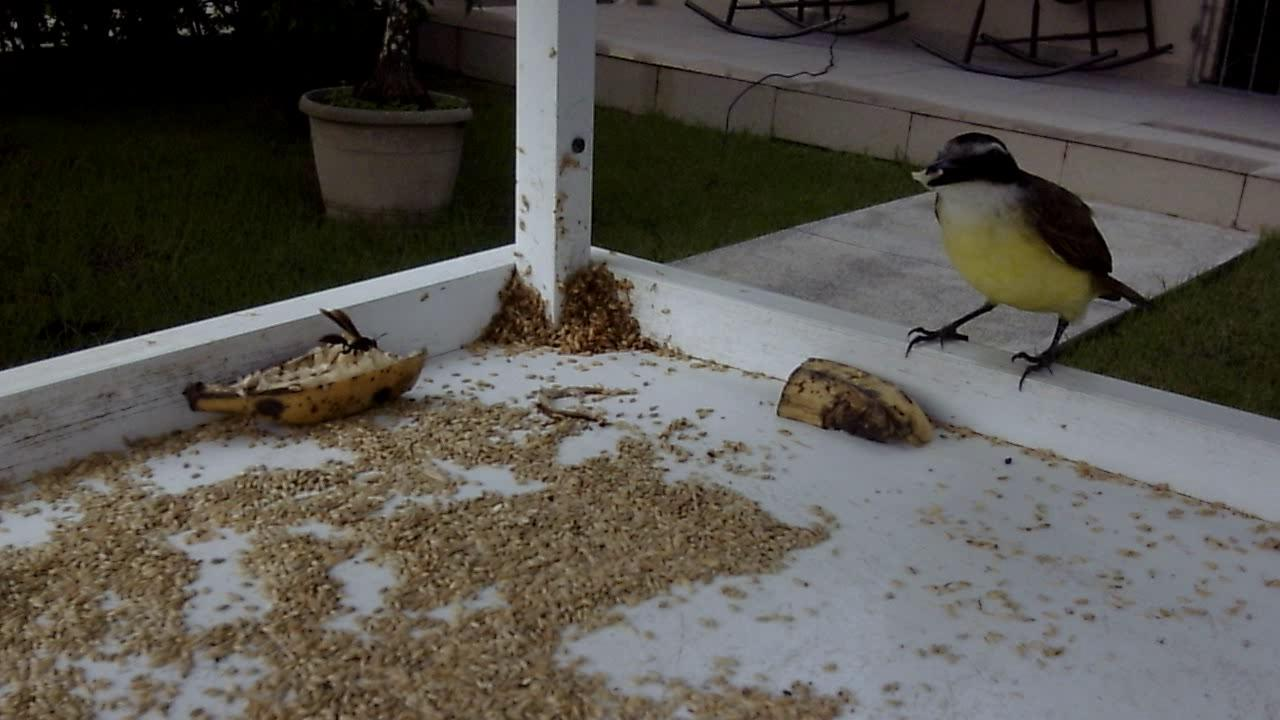bem_te_vi: (882, 116, 1169, 403)
